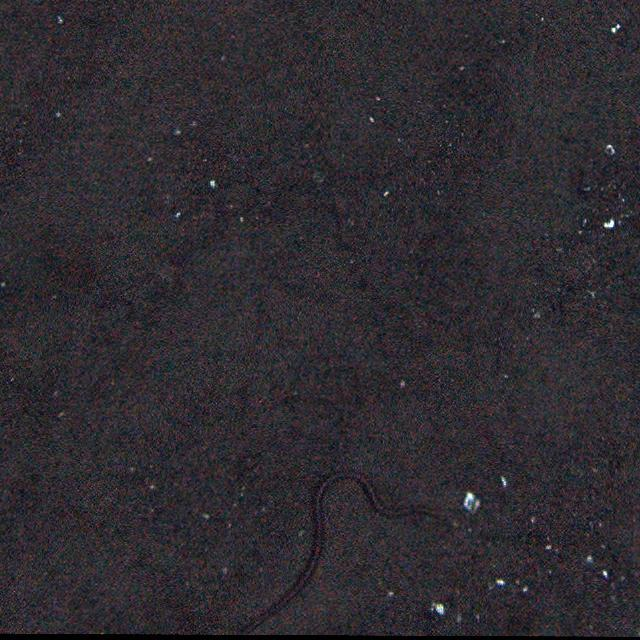eel: (221, 474, 446, 634)
